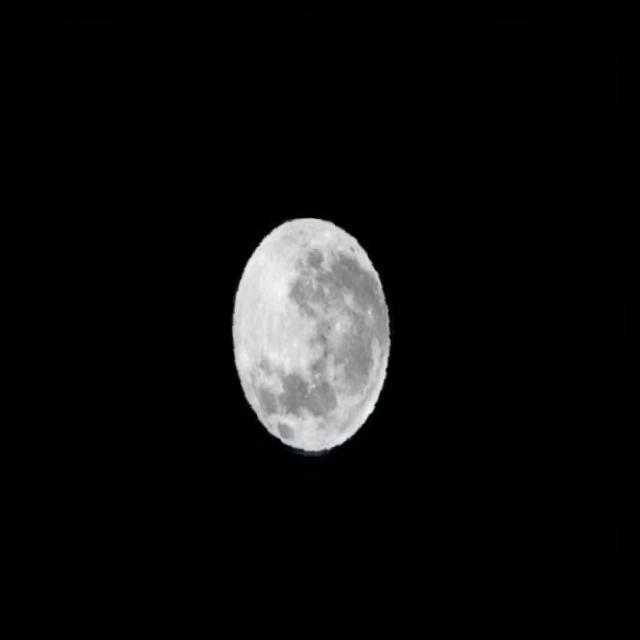moon: (220, 207, 417, 466)
